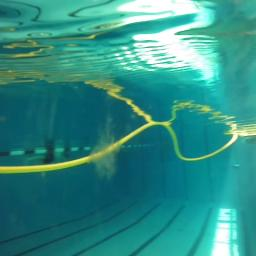Full: (234, 164, 240, 169)
